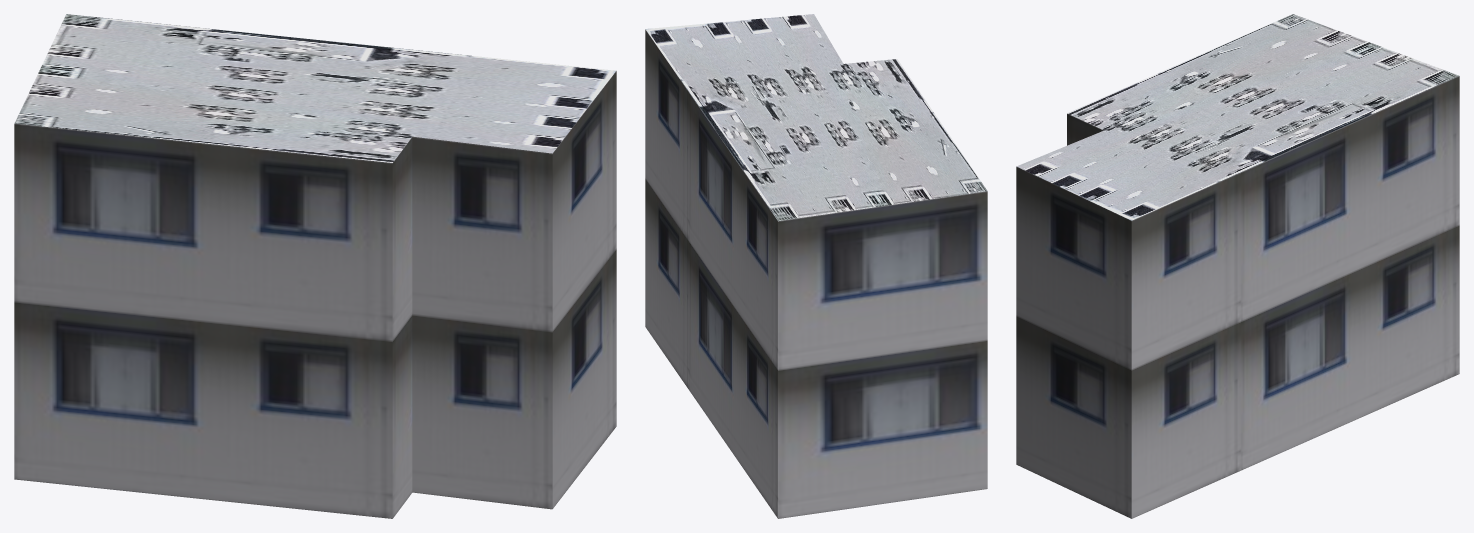
File: ResTex__4828.fbx
3 views of the same model, side by side, from view 1: azimuth 30°, elevation 25°; view 2: azimuth 150°, elevation 25°; view 3: azimuth 270°, elevation 25° (orthographic). The views are drawn at different scales.
Visible parts, largest first — view 1: CityEngineMaterial_9_m, CityEngineMaterial_m; view 2: CityEngineMaterial_9_m, CityEngineMaterial_m; view 3: CityEngineMaterial_9_m, CityEngineMaterial_m.
Part boxes in pixels (left/top/right/bottom): CityEngineMaterial_9_m: left=14, top=71, right=616, bottom=518; CityEngineMaterial_m: left=14, top=14, right=615, bottom=162; CityEngineMaterial_9_m: left=645, top=29, right=987, bottom=518; CityEngineMaterial_m: left=645, top=14, right=987, bottom=221; CityEngineMaterial_9_m: left=1016, top=76, right=1459, bottom=518; CityEngineMaterial_m: left=1016, top=14, right=1459, bottom=220.
Bounding box in the file's own units: 8.92 × 6 × 8.09.
Materials: 2 (2 with a texture image).
